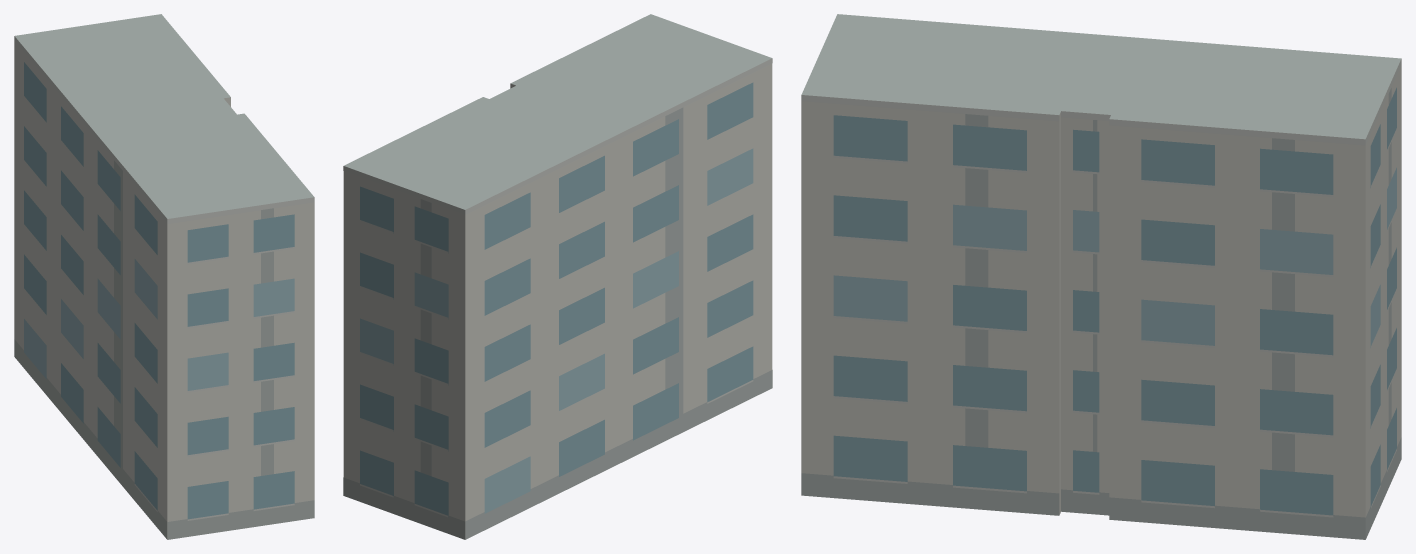
File: survey-upis-32766090.glb
The picture shows the model from 3 angles, left to right: view 1: azimuth 30°, elevation 25°; view 2: azimuth 150°, elevation 25°; view 3: azimuth 270°, elevation 25°; orthographic projection. The views are drawn at different scales.
Parts seen in each view (by area): view 1: survey-upis-32766090.tmp; view 2: survey-upis-32766090.tmp; view 3: survey-upis-32766090.tmp.
Boxes of the visible parts, bbox=[...] form: survey-upis-32766090.tmp: bbox=[14, 14, 314, 539]; survey-upis-32766090.tmp: bbox=[343, 14, 772, 539]; survey-upis-32766090.tmp: bbox=[801, 14, 1401, 539].
Size of the model in its own units: 10.54 by 15.7 by 21.33.
